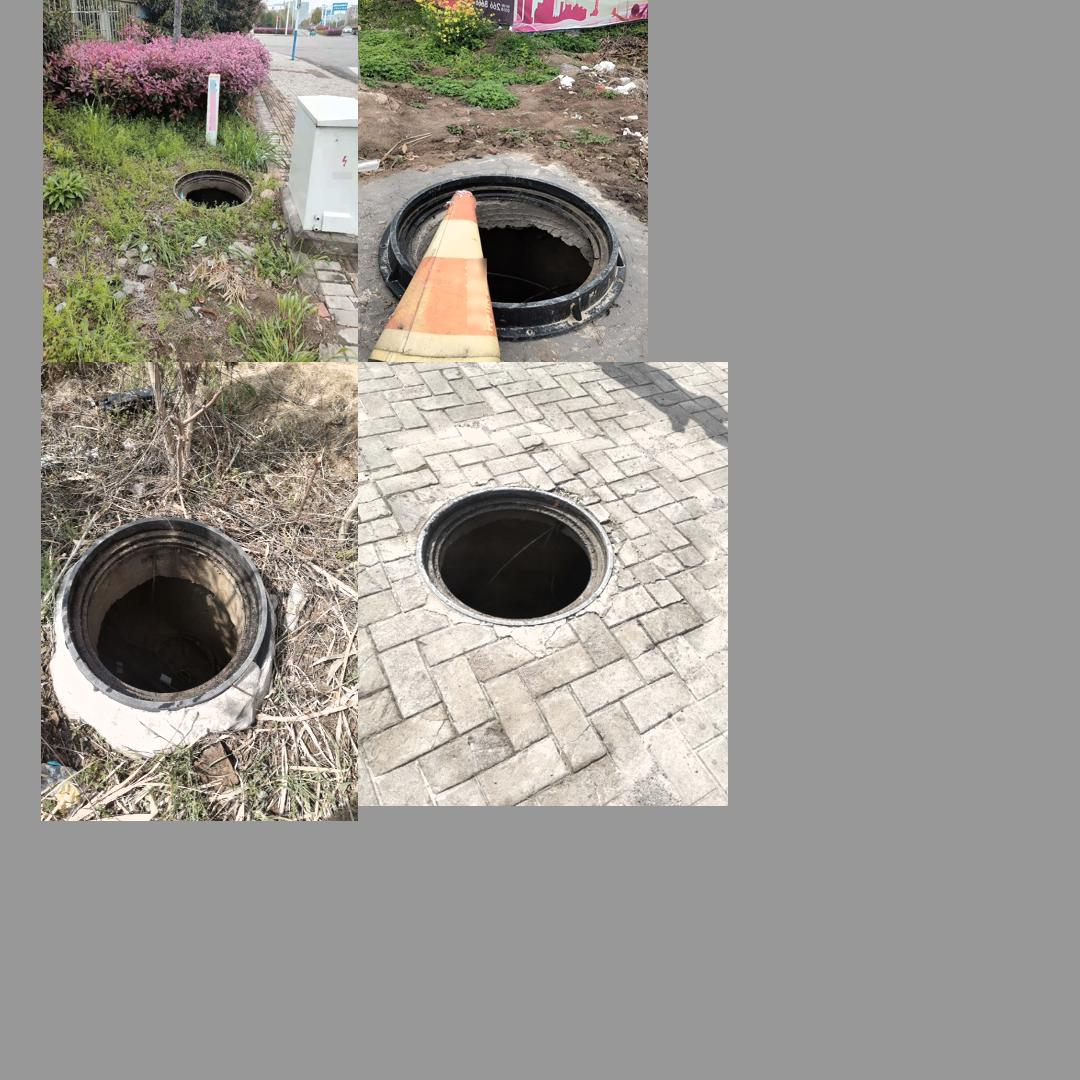lose: (378, 172, 623, 344), (60, 515, 267, 711), (412, 475, 629, 632), (169, 163, 257, 208)
